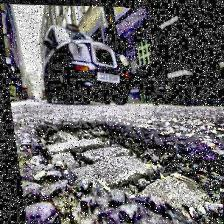pothole: (24, 110, 219, 224)
